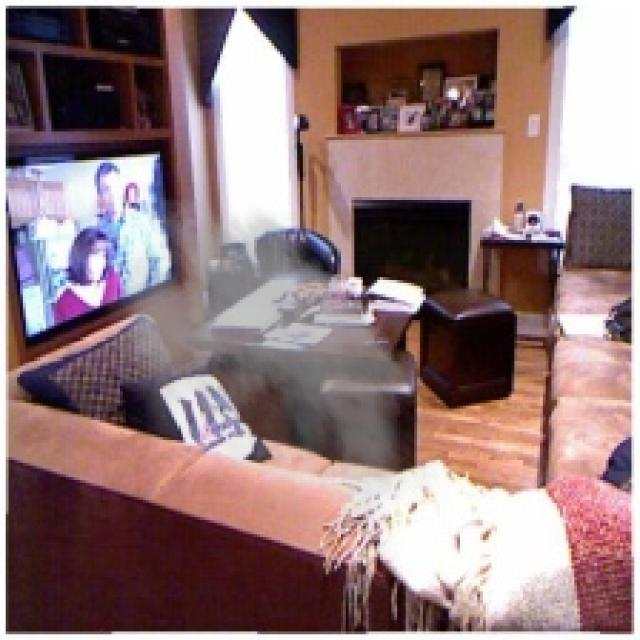smoke: (89, 183, 452, 577)
